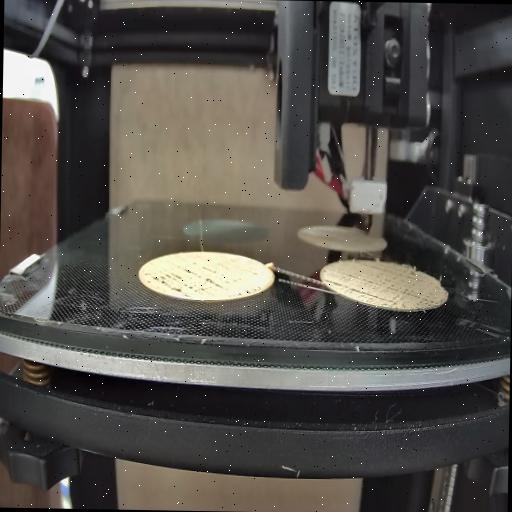under_extrusion: (324, 264, 438, 308), (141, 264, 262, 298)
